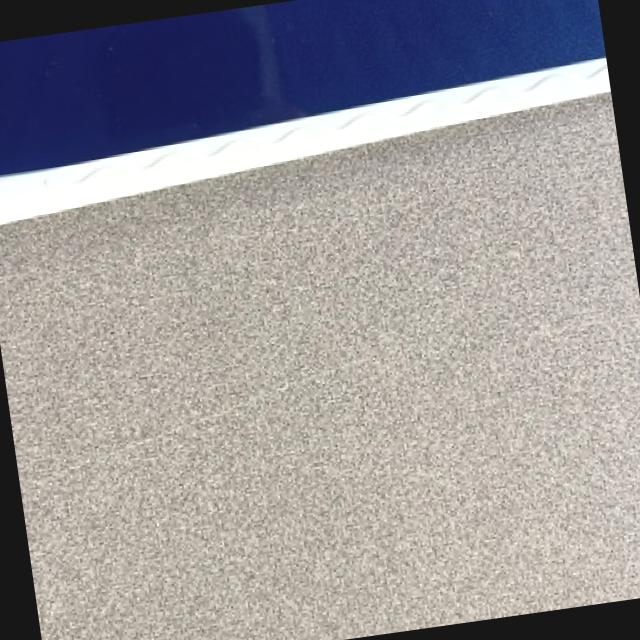healthy: (0, 0, 640, 640), (0, 0, 609, 221)
